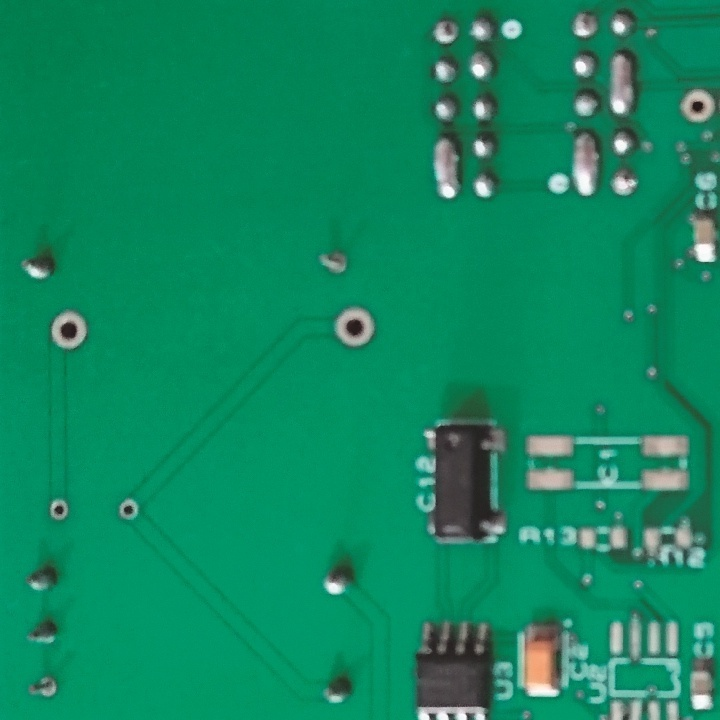F: (331, 303, 379, 352), (47, 308, 93, 355), (679, 85, 717, 126), (23, 675, 62, 702), (316, 249, 351, 278), (570, 7, 597, 43), (610, 167, 640, 198), (430, 16, 460, 46), (47, 496, 73, 522), (117, 496, 139, 522)
P: (569, 128, 601, 199), (607, 47, 638, 120), (430, 130, 460, 201)
